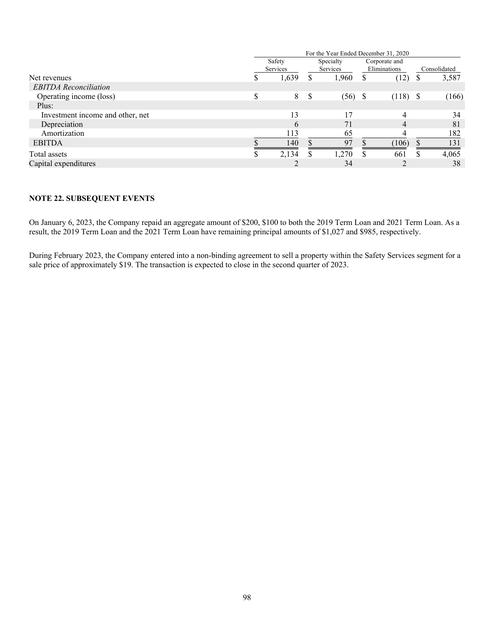box: (26, 49, 467, 170)
